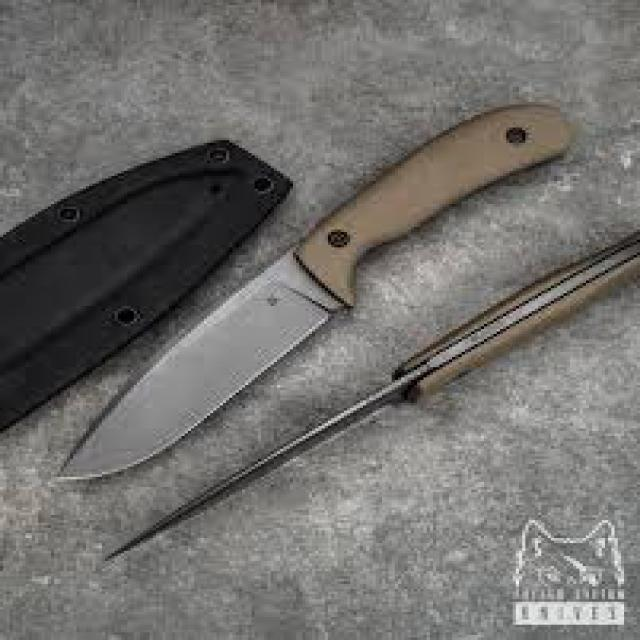knives: (50, 53, 628, 566)
